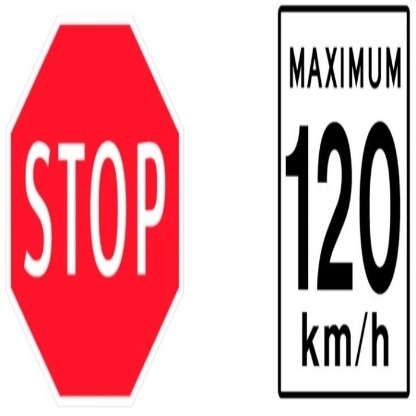stop: (9, 14, 185, 400)
